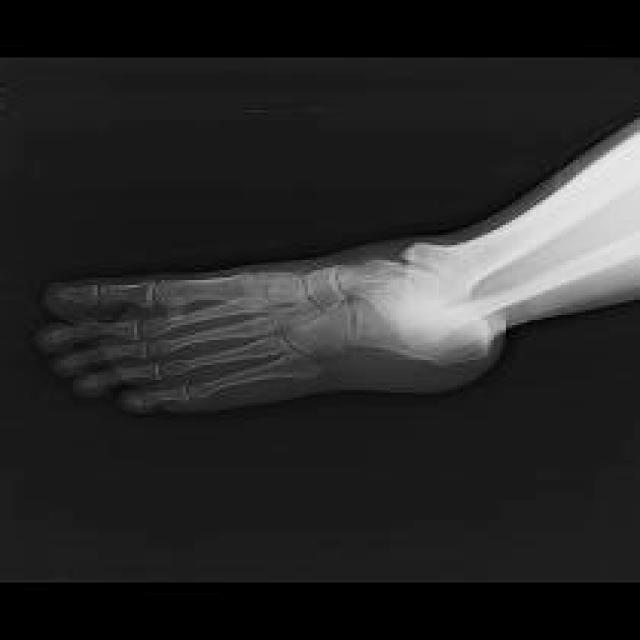normal: (41, 131, 640, 407)
